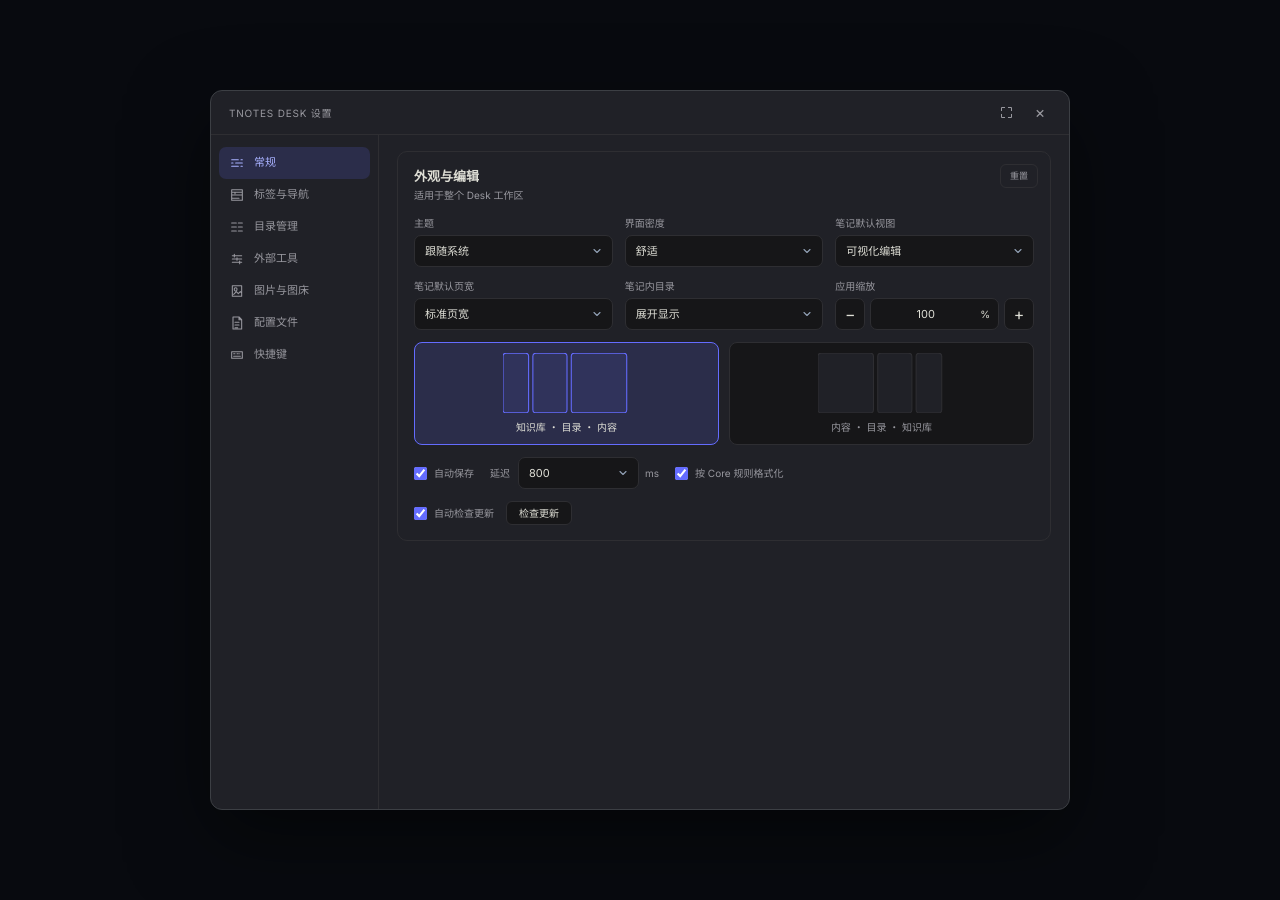
Scenario: SettingsPanel Markdown quick-input catalog › renders every shared slash, block, and inline shortcut entry
Click the button with class "nav-item" showing "快捷键" at (294, 355), box [219, 339, 370, 371]
(page scrolled)
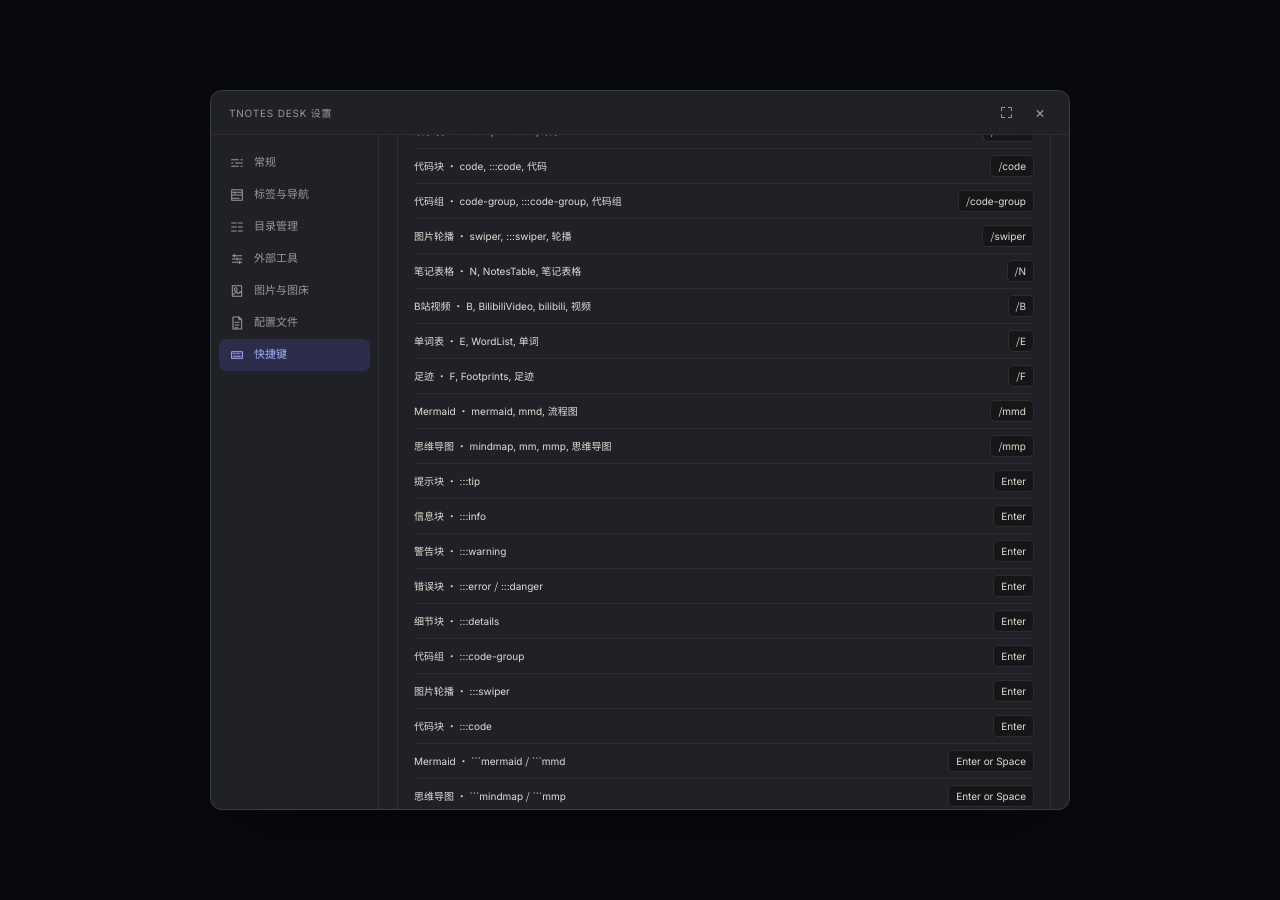
Expected: the element with class "shortcut-group" is shown, [414, 135, 1034, 809]
Expected: the element with class "shortcut-group" shows "代码块", [414, 160, 547, 172]
Expected: the element with class "shortcut-group" shows "/code", [998, 160, 1026, 172]
